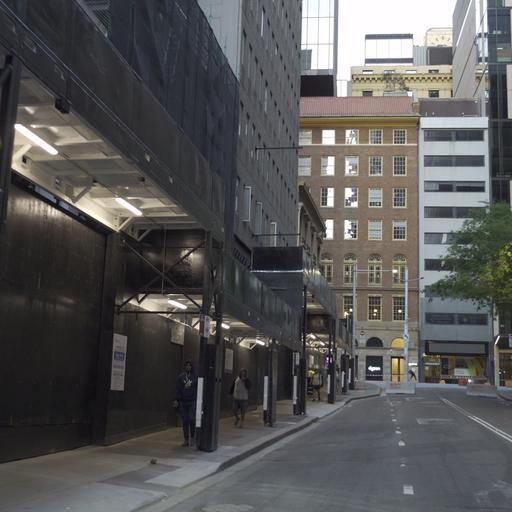Street light: (348, 264, 398, 389), (392, 271, 424, 382)
